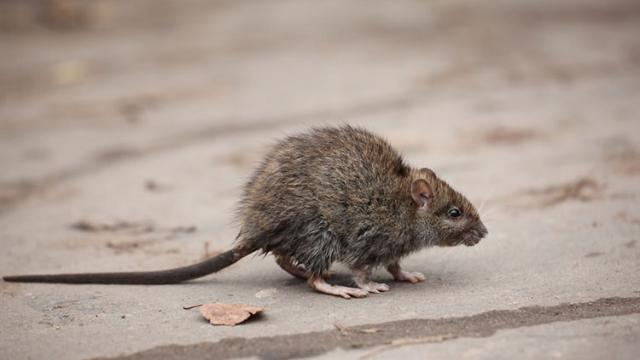rat: (54, 119, 500, 301)
